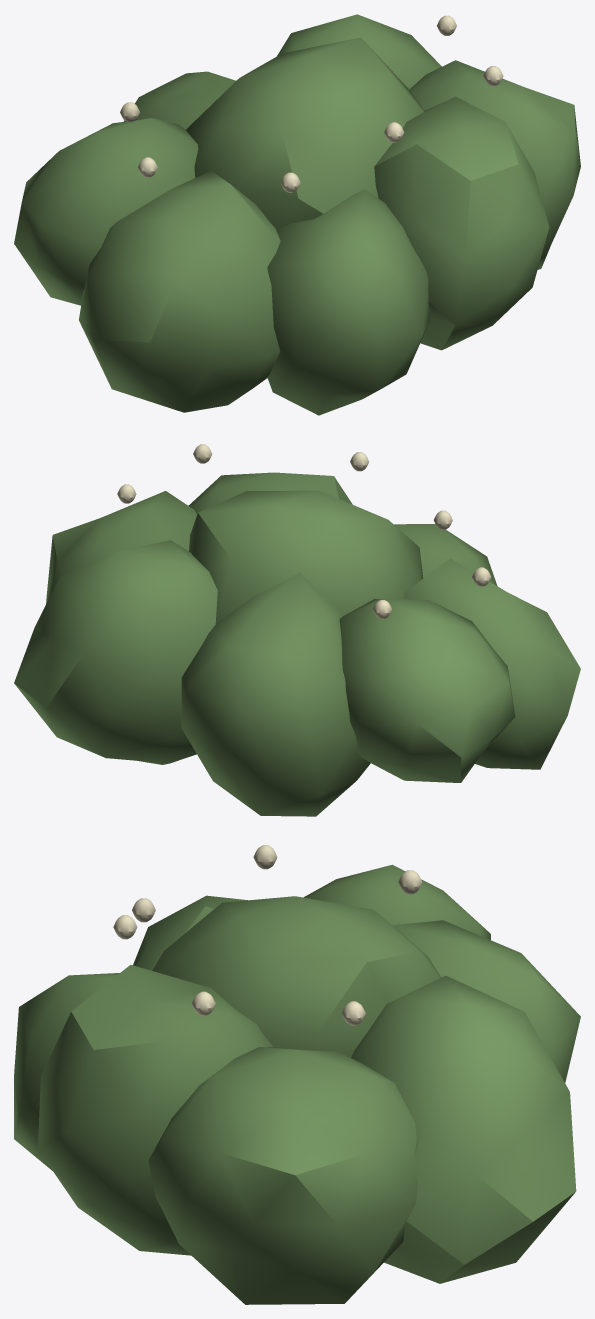
File: obj_kit_shrub.glb
3 renders of one model, top to bottom at view 1: azimuth 30°, elevation 25°; view 2: azimuth 150°, elevation 25°; view 3: azimuth 270°, elevation 25°, orthographic. The views are drawn at different scales.
Visible parts, largest first — view 1: Icosphere.004, Icosphere.006, Icosphere.007, Icosphere.005, Icosphere.003, Icosphere, Icosphere.001, Icosphere.002; view 2: Icosphere.002, Icosphere.001, Icosphere.003, Icosphere.007, Icosphere.004, Icosphere, Icosphere.006, Icosphere.005; view 3: Icosphere, Icosphere.001, Icosphere.006, Icosphere.007, Icosphere.002, Icosphere.005, Icosphere.003, Icosphere.004.
Boxes of the visible parts, x1,y1,x2,y2 form: Icosphere.004: [79, 171, 280, 412]; Icosphere.006: [374, 96, 549, 350]; Icosphere.007: [186, 37, 424, 228]; Icosphere.005: [267, 189, 429, 415]; Icosphere.003: [14, 118, 198, 305]; Icosphere: [409, 60, 580, 269]; Icosphere.001: [277, 14, 441, 89]; Icosphere.002: [124, 71, 235, 129]; Icosphere.002: [181, 572, 370, 816]; Icosphere.001: [14, 540, 217, 764]; Icosphere.003: [339, 599, 515, 782]; Icosphere.007: [189, 490, 423, 624]; Icosphere.004: [404, 558, 580, 769]; Icosphere: [46, 491, 197, 603]; Icosphere.006: [188, 472, 352, 513]; Icosphere.005: [394, 524, 497, 585]; Icosphere: [148, 1047, 417, 1304]; Icosphere.001: [351, 975, 576, 1283]; Icosphere.006: [38, 964, 272, 1255]; Icosphere.007: [152, 896, 441, 1057]; Icosphere.002: [392, 920, 580, 1082]; Icosphere.005: [14, 973, 119, 1170]; Icosphere.003: [303, 864, 490, 939]; Icosphere.004: [133, 895, 247, 970].
Bounding box in the file's own units: 1.32 × 0.7093 × 1.06.
